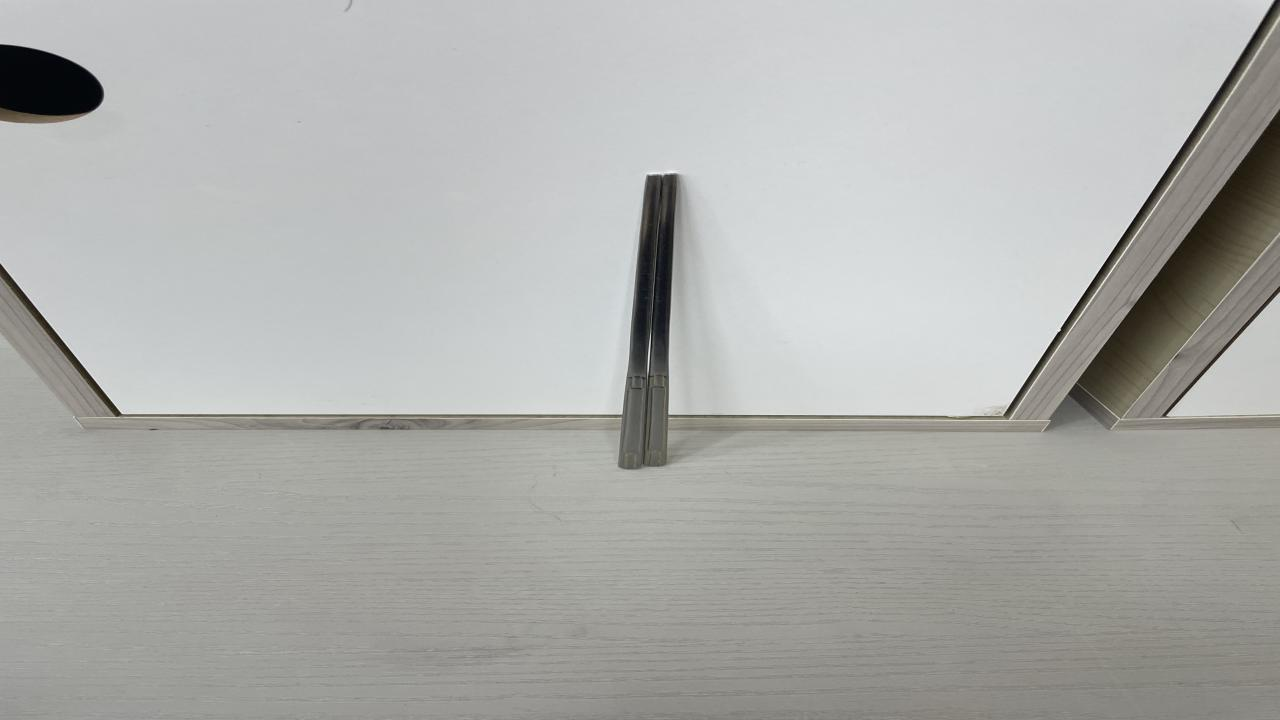chopstick: (616, 173, 679, 468)
